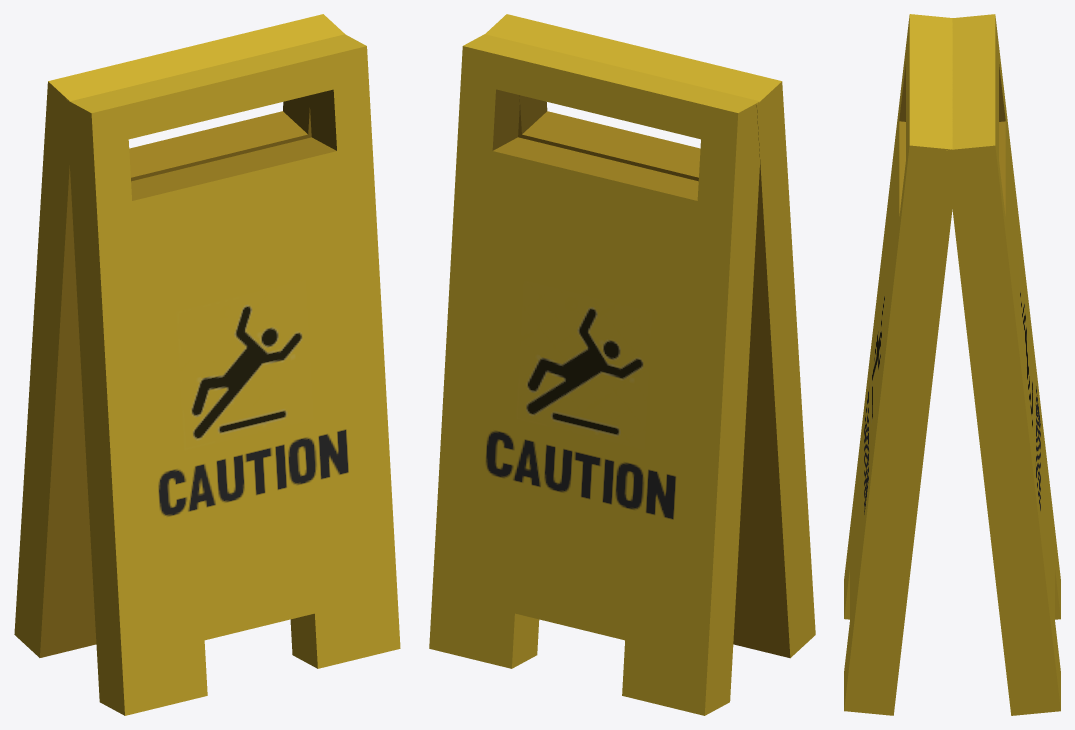
The model's file is SM_Prop_Sign_01.fbx.
3 views of the same model, side by side, from view 1: azimuth 30°, elevation 25°; view 2: azimuth 150°, elevation 25°; view 3: azimuth 270°, elevation 25° (orthographic). The views are drawn at different scales.
Visible parts, largest first — view 1: SM_Prop_Sign_01; view 2: SM_Prop_Sign_01; view 3: SM_Prop_Sign_01.
Part boxes in pixels (x1,y1,x2,y2): SM_Prop_Sign_01: (14, 14, 400, 715); SM_Prop_Sign_01: (429, 14, 815, 715); SM_Prop_Sign_01: (844, 14, 1060, 715).
Size of the model in its own units: 0.6813 by 1.38 by 0.4744.
